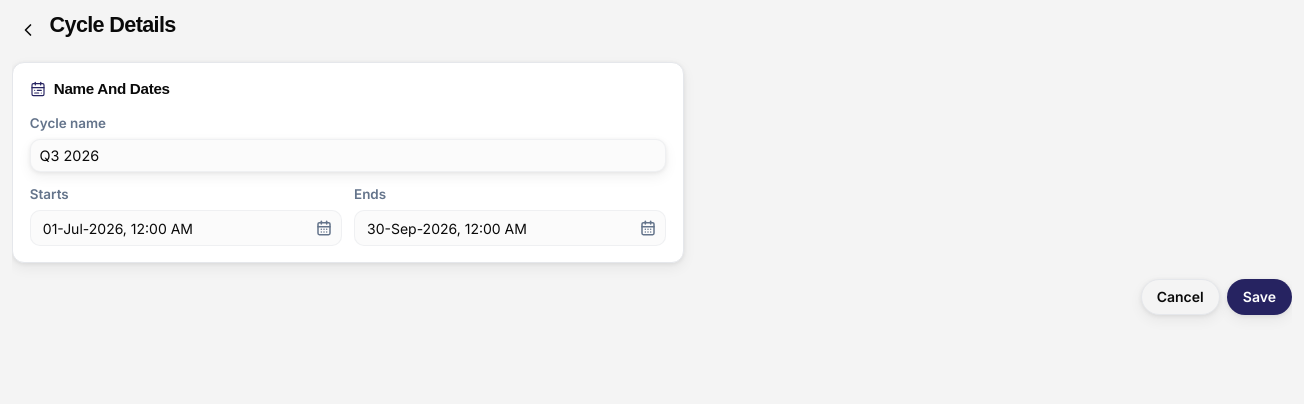
it: CycleDetailsEditPage › does not save when the end is before the start
The width and height of the screenshot is (1304, 404).
Replace the text in the field labelled "Starts" with "2026-08-01T09:00". click: (186, 228)
box: [30,210,342,246]
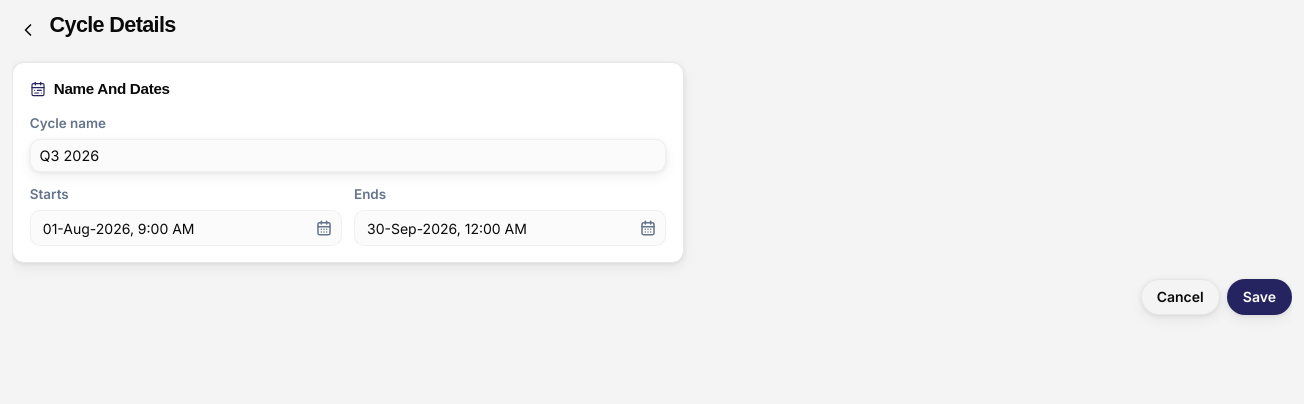
Replace the text in the field labelled "Ends" with "2026-07-01T09:00". click: (510, 228)
box: [354,210,666,246]
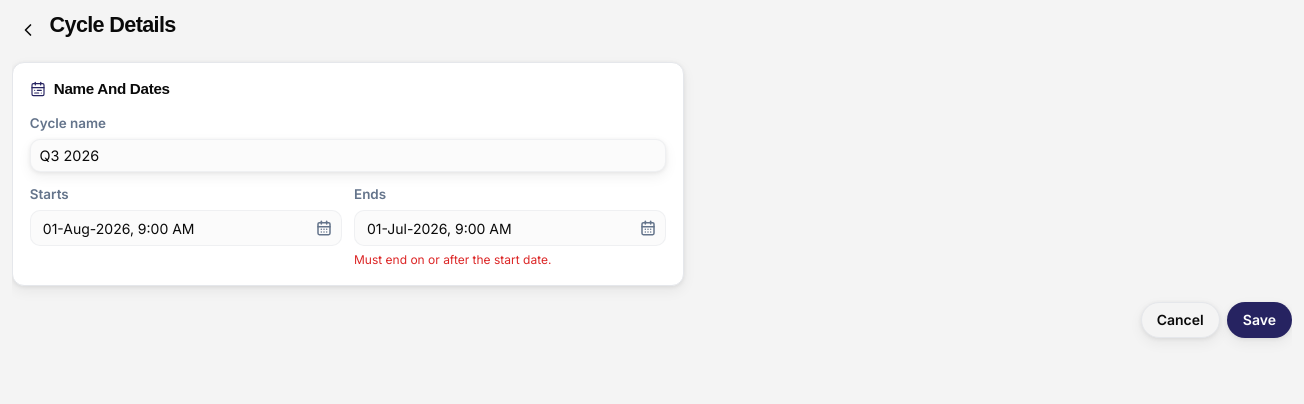
Click the button "Save". click: click(1259, 320)
box: [1227,302,1292,338]
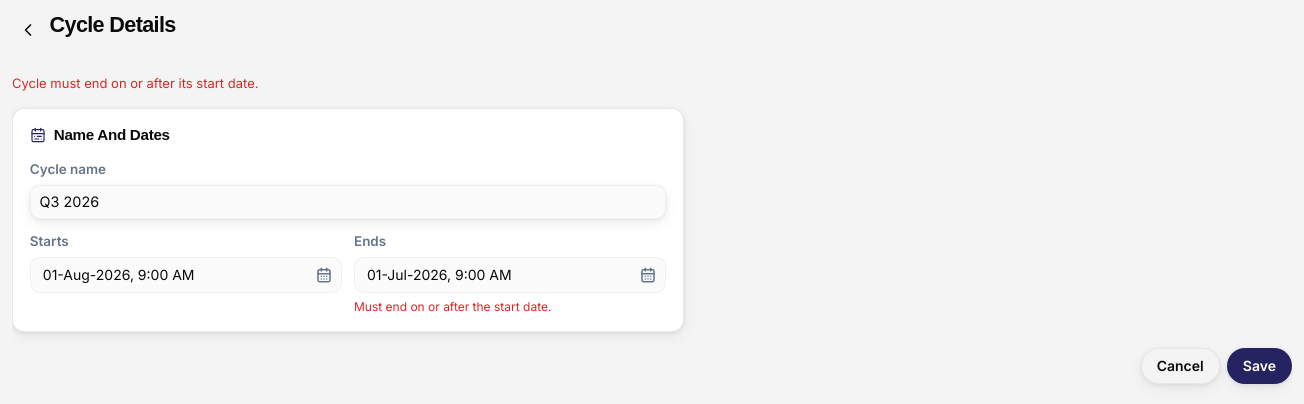
Expected: the text "Cycle must end on or after its start date." is shown, [12,75,258,91]
